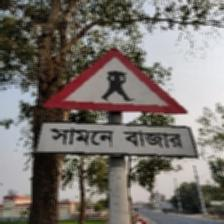Market-in-front: (37, 46, 195, 159)
